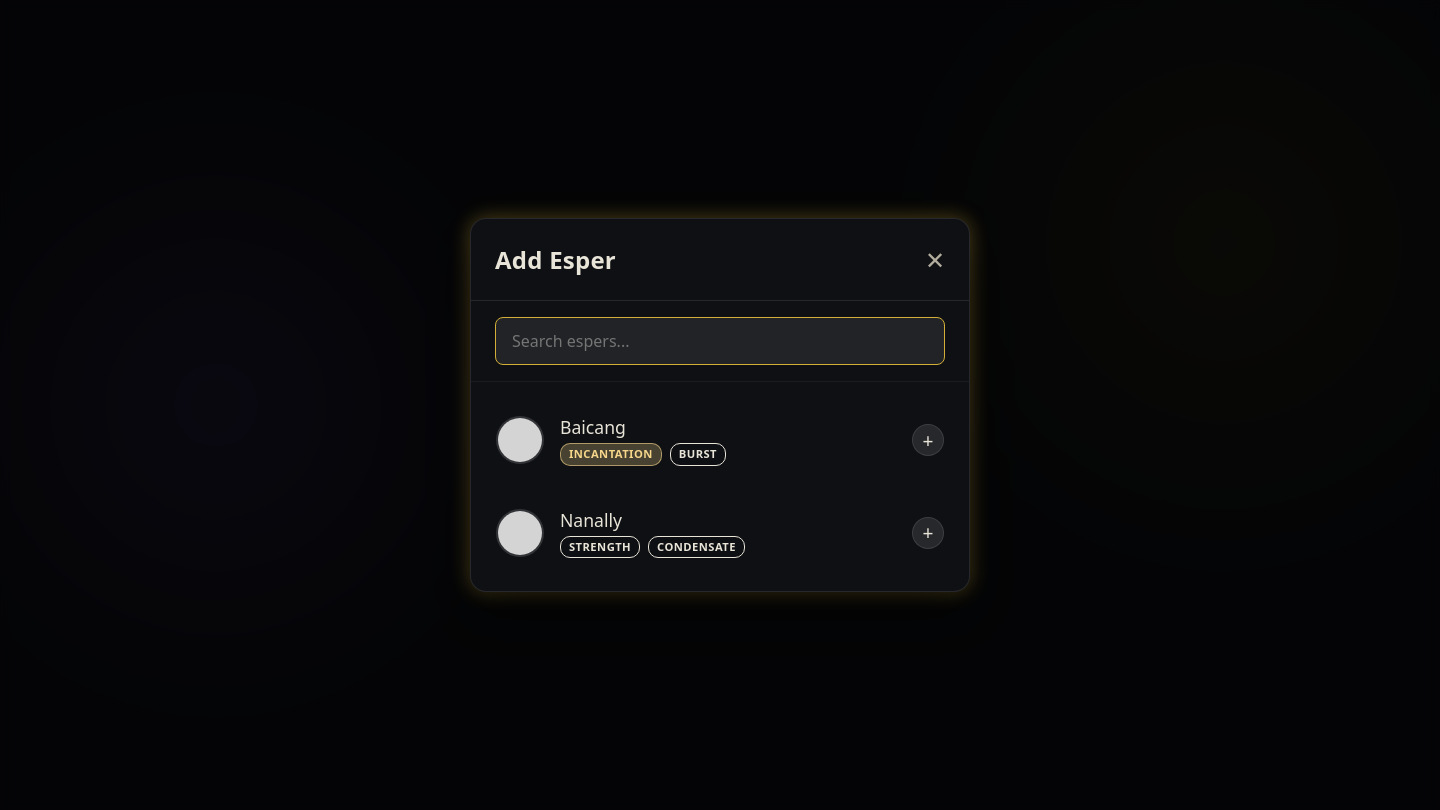
Test case: AddCharacterModal (N2E) › searches by role (secondary search key)
Step 1. Type "Healer" into the field with placeholder "Search espers..." → [720, 341], box [495,317,945,365]
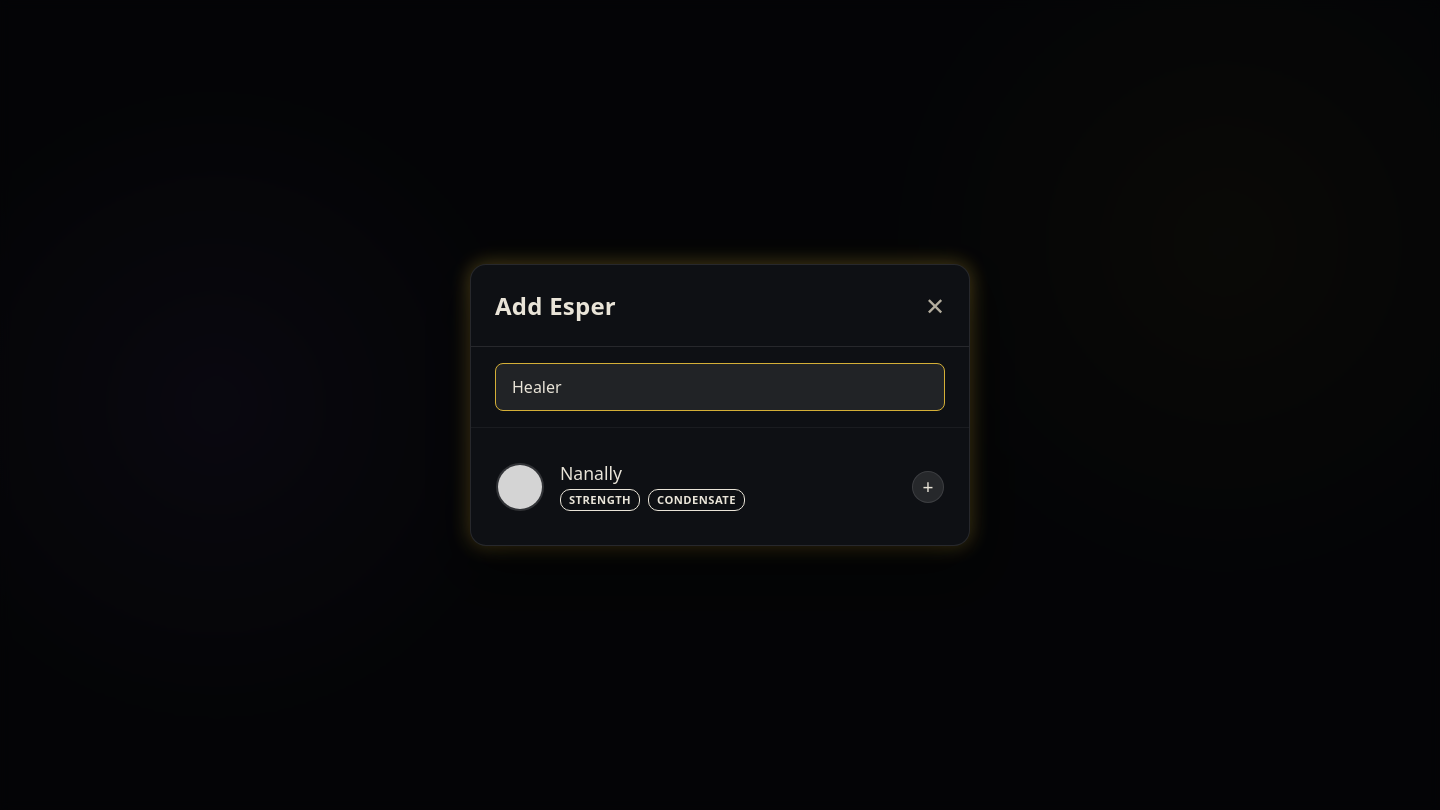
expect the text "Nanally" is shown: met, box [560,461,622,485]
expect the text "Baicang" is gone: met
